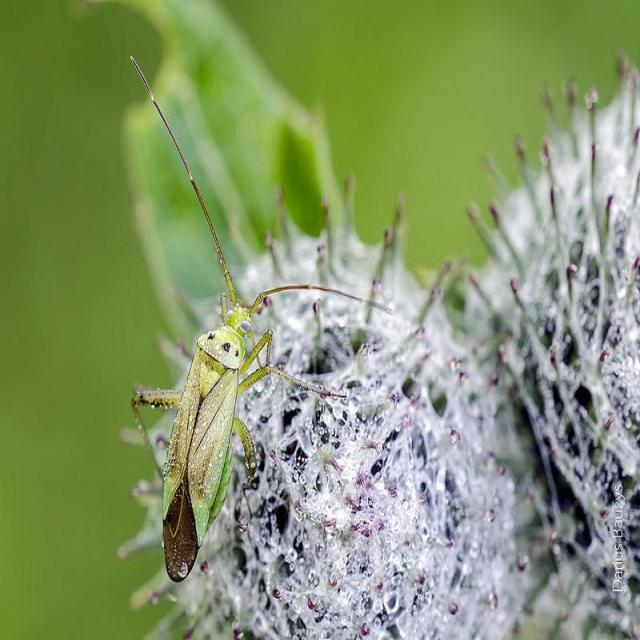Miridae-Adult-: (116, 49, 377, 590)
